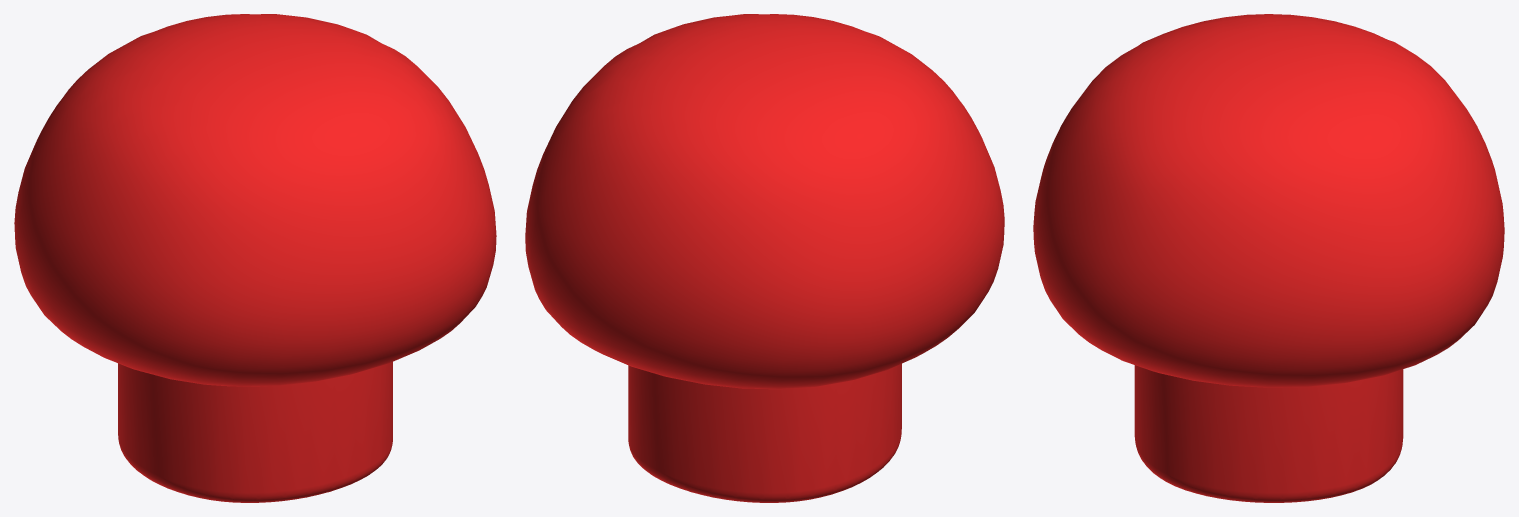
Rendered from mushroomL.fbx.
3 views of the same model, side by side, from view 1: azimuth 30°, elevation 25°; view 2: azimuth 150°, elevation 25°; view 3: azimuth 270°, elevation 25° (orthographic).
Visible parts, largest first — view 1: Box001; view 2: Box001; view 3: Box001.
Part boxes in pixels (<box>): Box001: <box>14,14,496,502</box>; Box001: <box>525,14,1004,502</box>; Box001: <box>1033,14,1504,502</box>.
Bounding box in the file's own units: 38.3 × 36.72 × 38.3.
